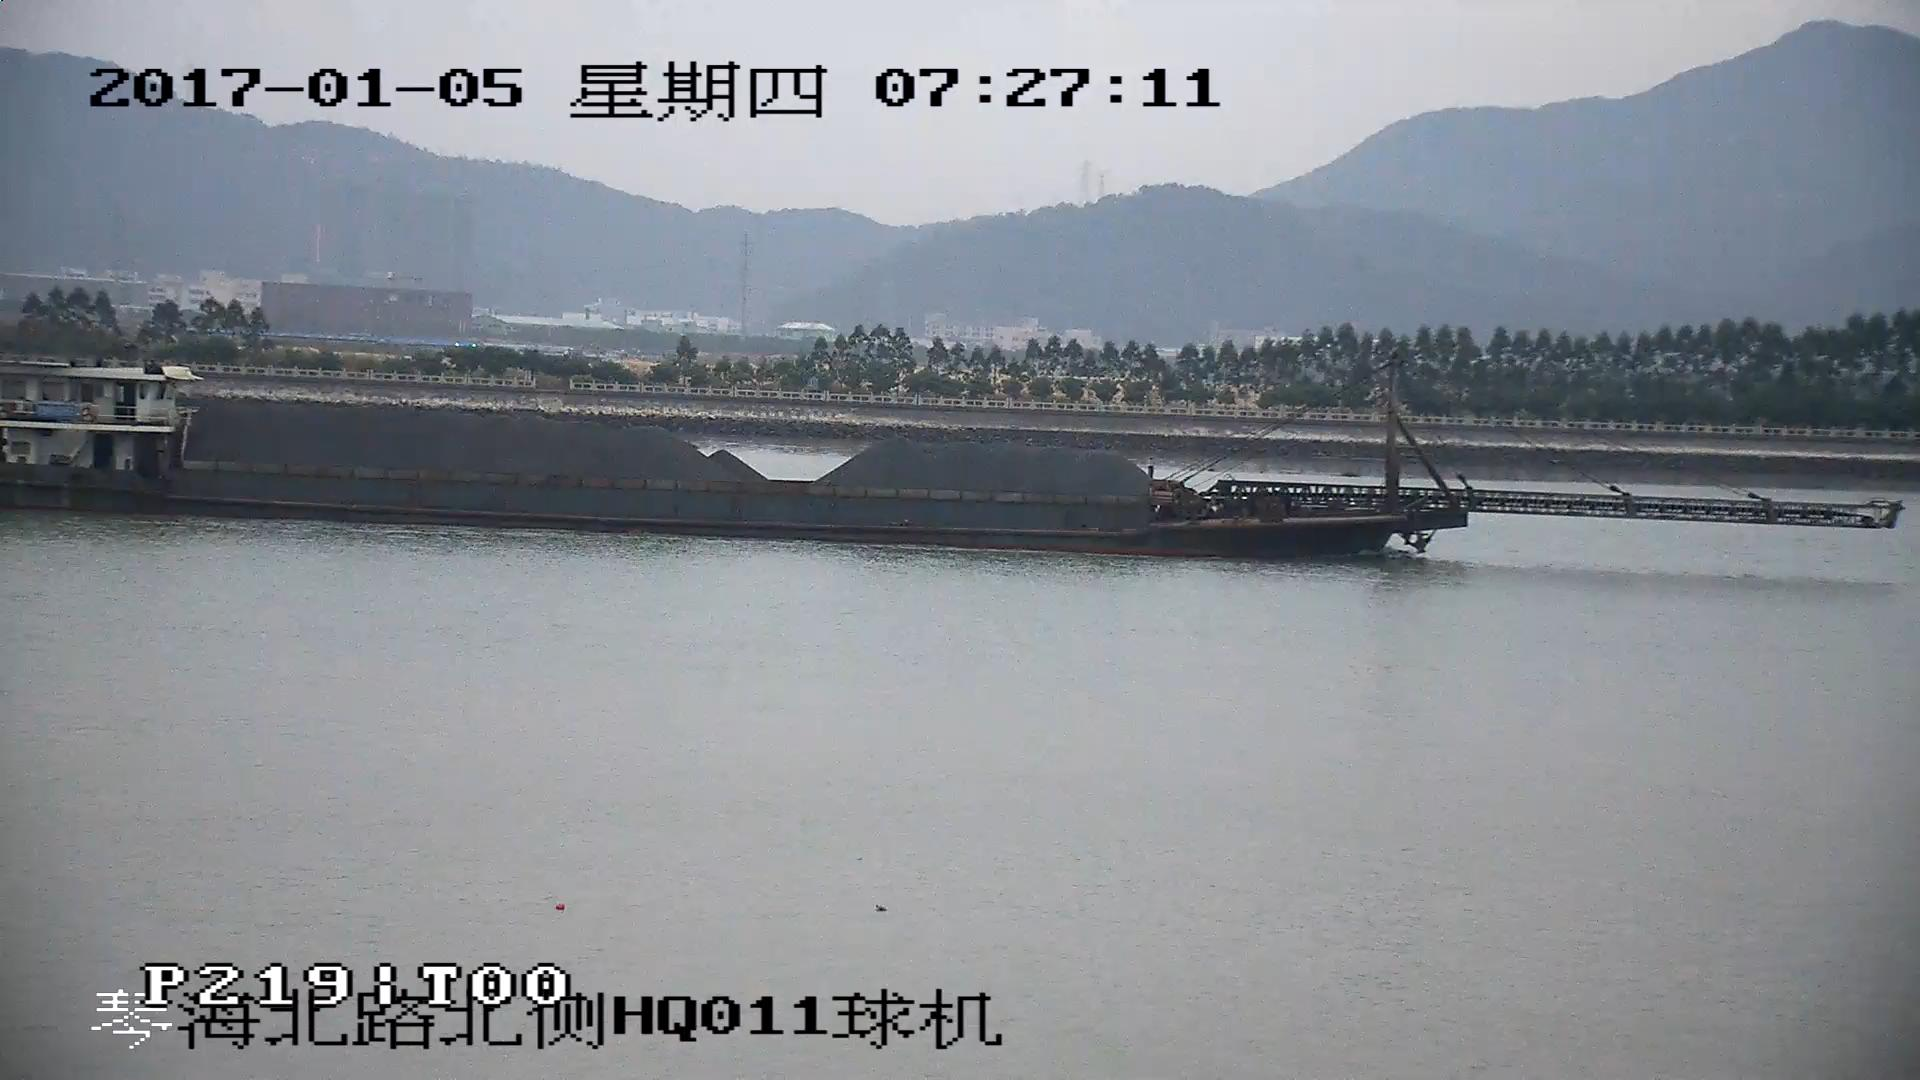ore carrier: (1, 371, 1896, 552)
